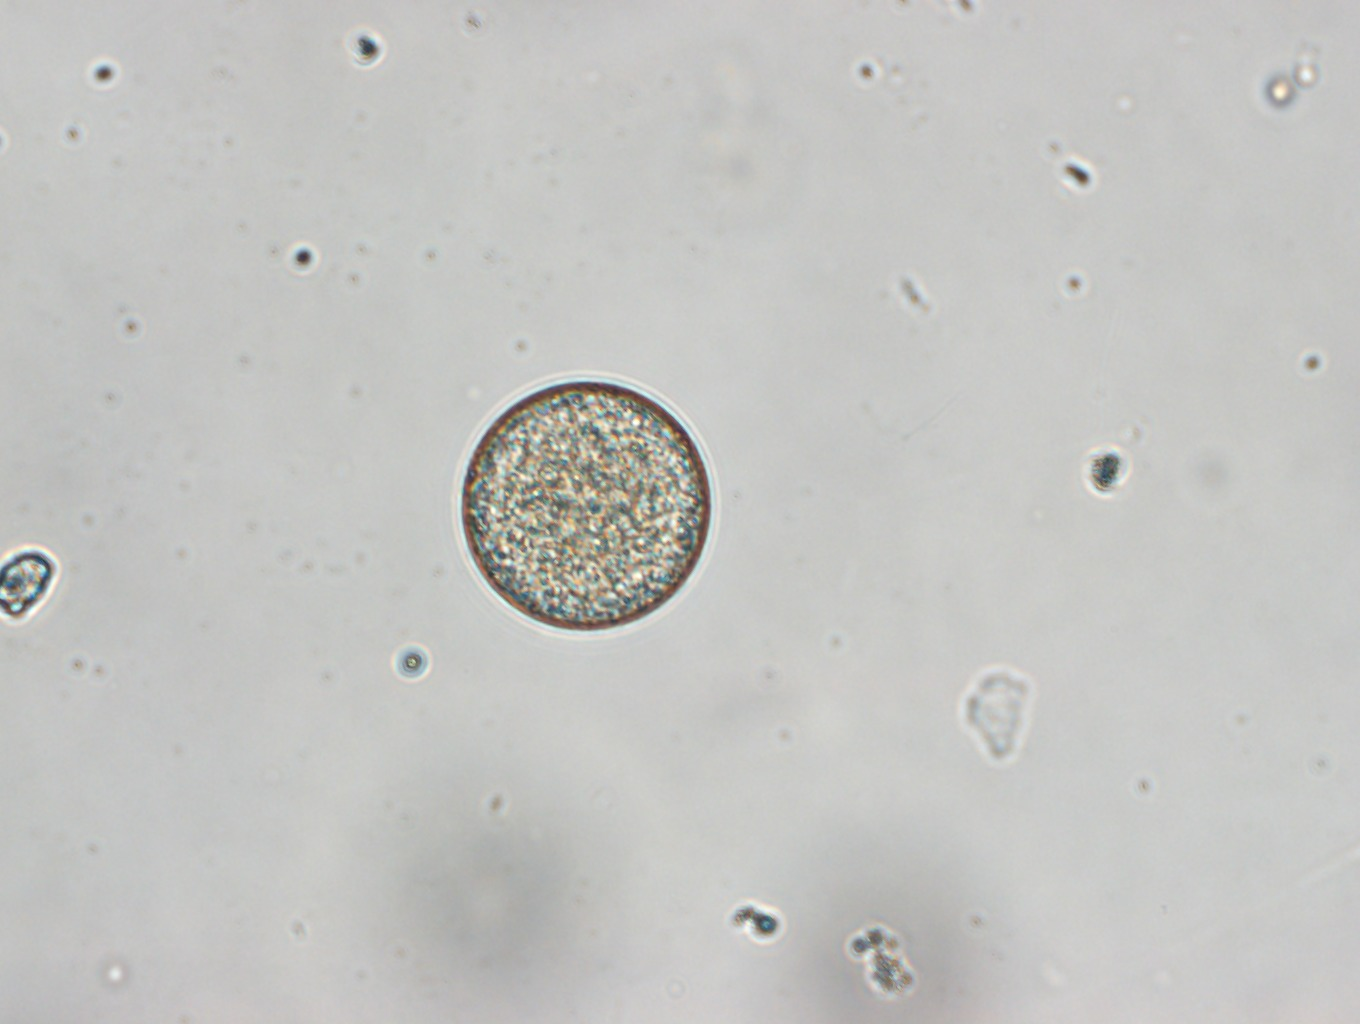coscinodiscus: (458, 375, 715, 636)
